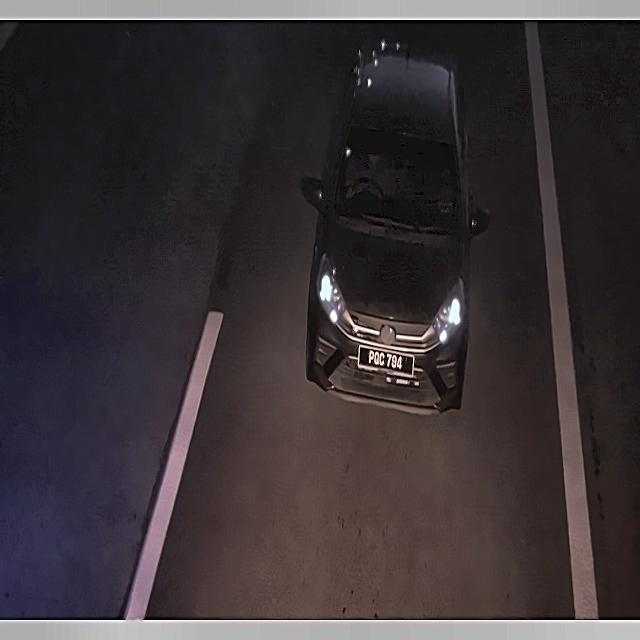car: (359, 339, 415, 381)
